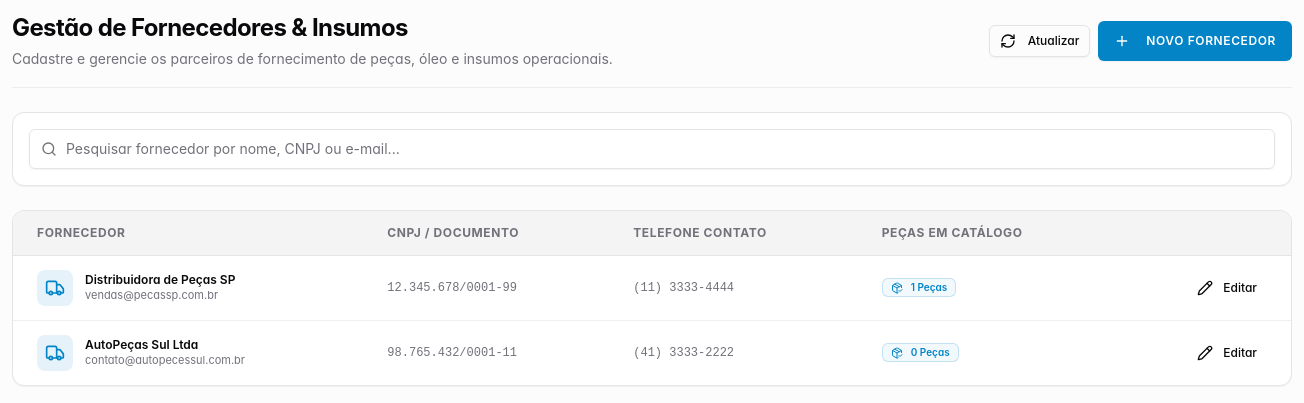
it: Suppliers Module (Phase 1) › 3. should filter suppliers list by text search
Expected: the text "Distribuidora de Peças SP" is shown, [85,272,235,288]
Type "Sul" into the field with placeholder "Pesquisar fornecedor por nome, CNPJ ou e-mail..." at (652, 149), box [29,129,1275,169]
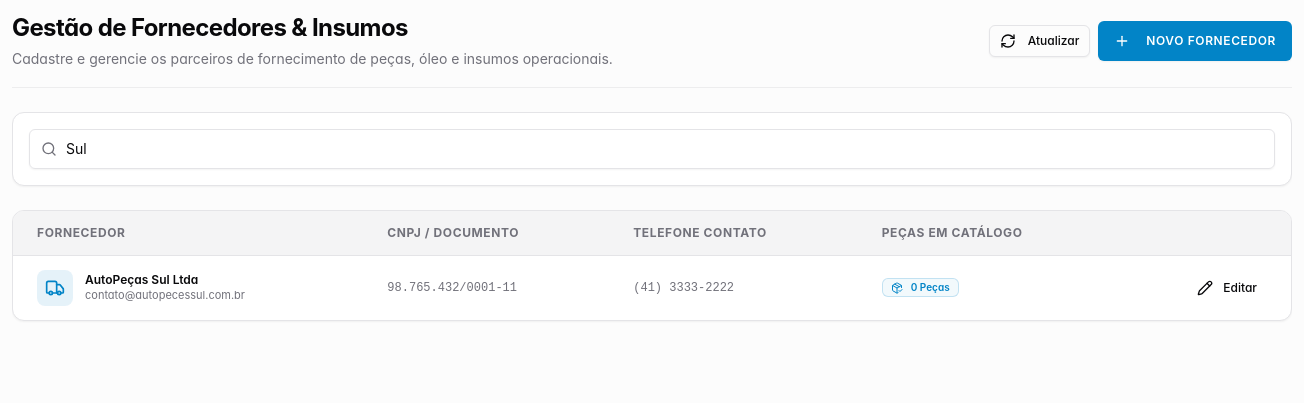
Expected: the text "AutoPeças Sul Ltda" is shown, [85,272,198,287]
Now the text "Distribuidora de Peças SP" is gone
